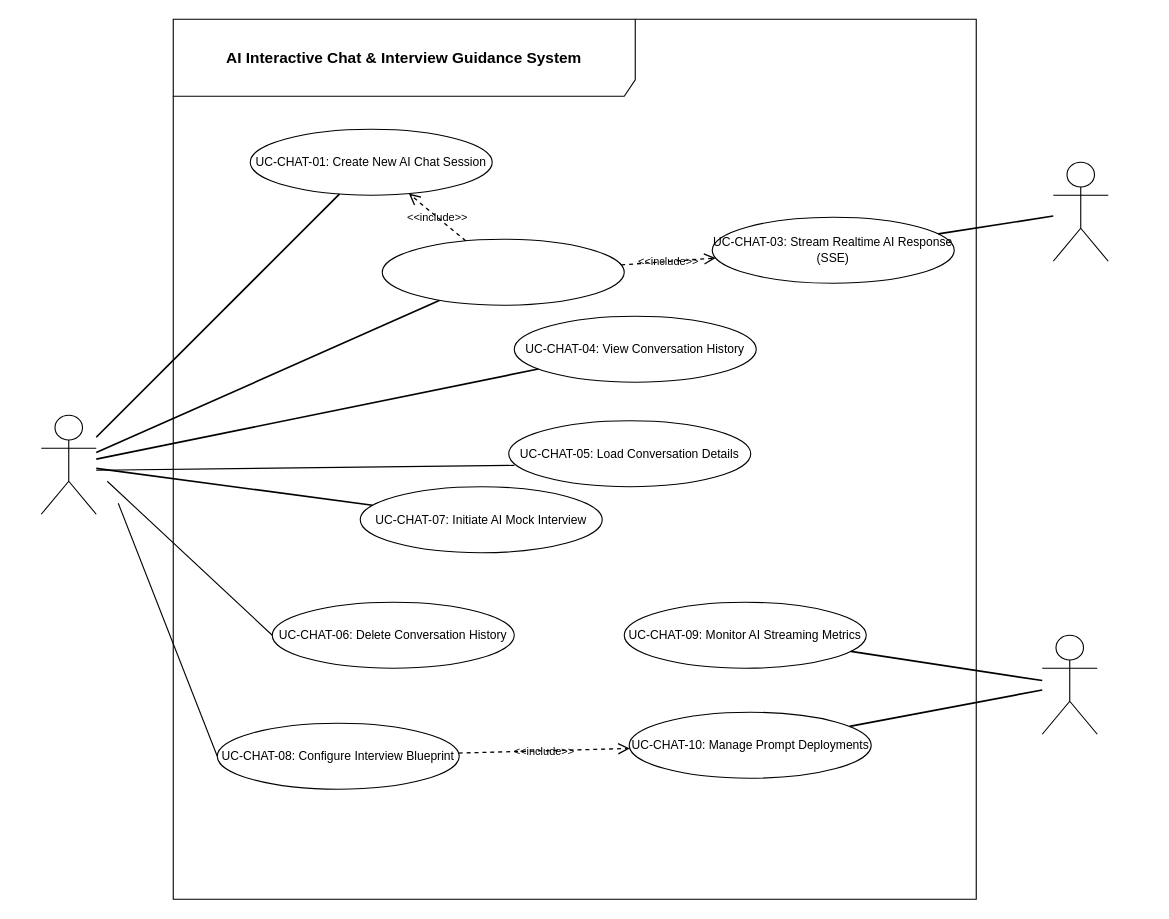
Image size: 1169x919. Some labels were removed from this diagram. Each missing label, with the box of its shape:
Candidate / User: (40, 414, 96, 514)
CVerify.AI Engine (LLM): (1052, 161, 1108, 261)
Super Admin: (1041, 634, 1097, 734)
UC-CHAT-02: Send Message to AI Assistant: (381, 238, 624, 305)
